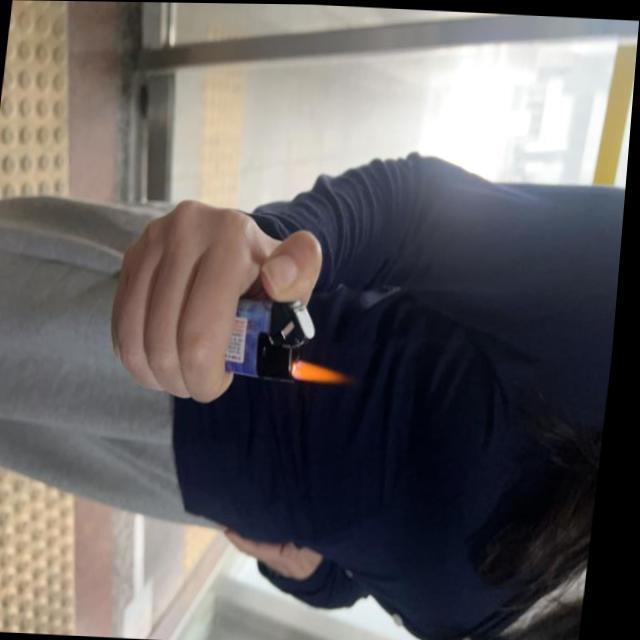fire: (301, 356, 354, 384)
